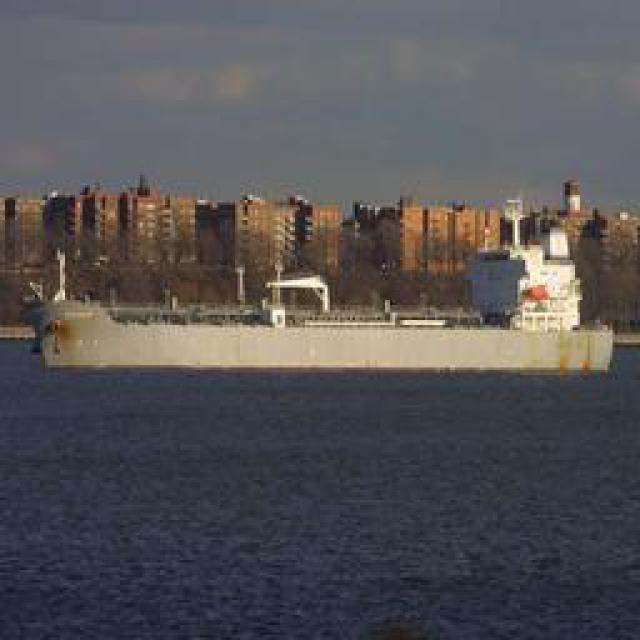Ship: (28, 183, 630, 387)
